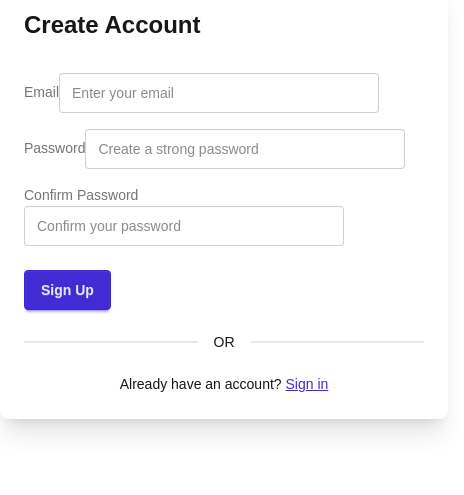
it: SignUpForm › Form Validation › shows error for password without lowercase letter
In the field with placeholder "Enter your email": (219, 93) 59,73 -> 379,113, type "test@example.com"
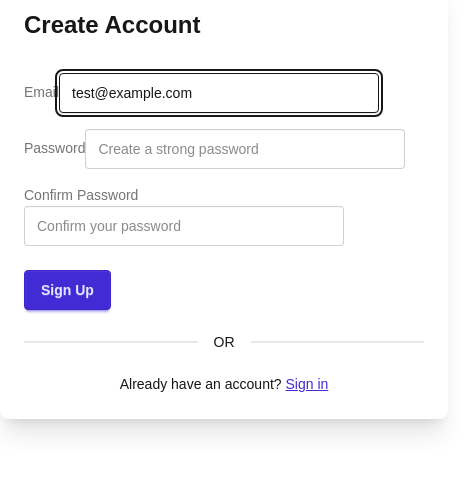
In the password field with placeholder "Create a strong password": (246, 149) 86,129 -> 406,169, type "PASSWORD123"
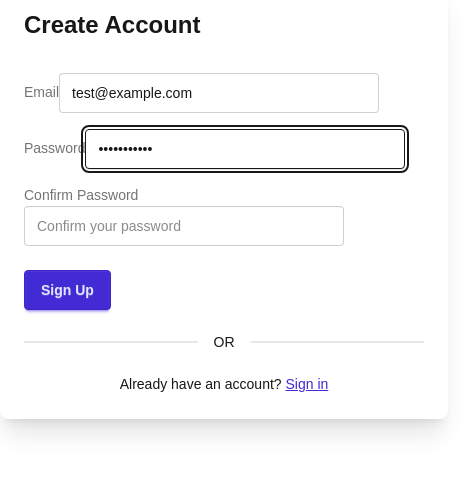
Click the button "Sign Up": click(67, 290) 24,270 -> 111,310
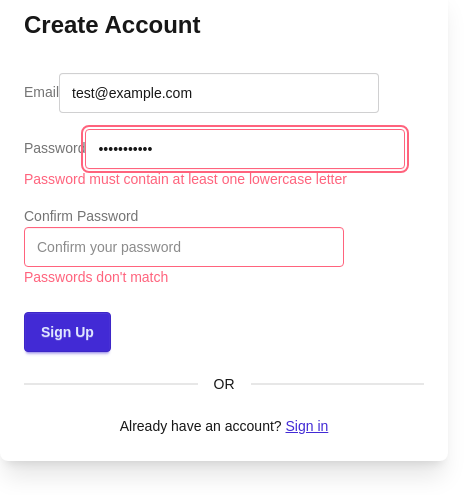
Check: the text "Password must contain at least one lowercase letter" is shown, box 24,169 -> 347,190
